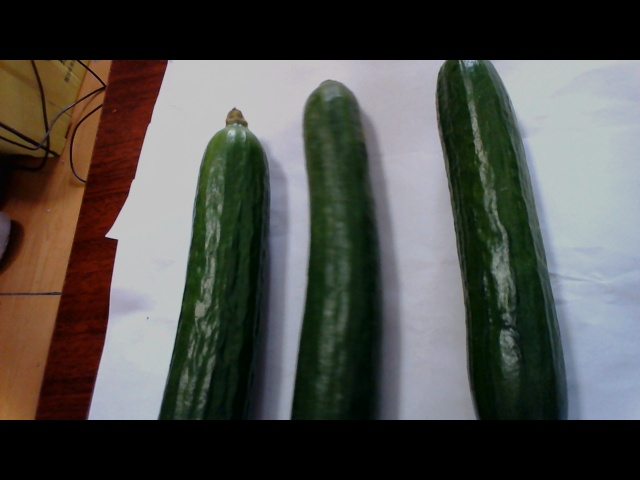cucumber: (425, 57, 581, 419), (280, 86, 408, 421), (158, 129, 280, 423)
